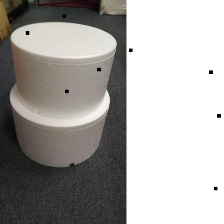foam_box: (6, 16, 120, 121), (5, 75, 112, 171)
